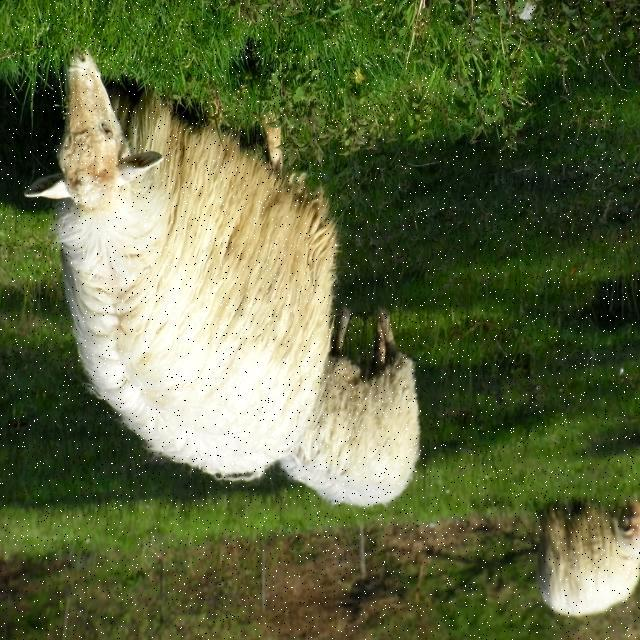sheep: (24, 53, 338, 480), (279, 310, 420, 508), (536, 507, 638, 617)
